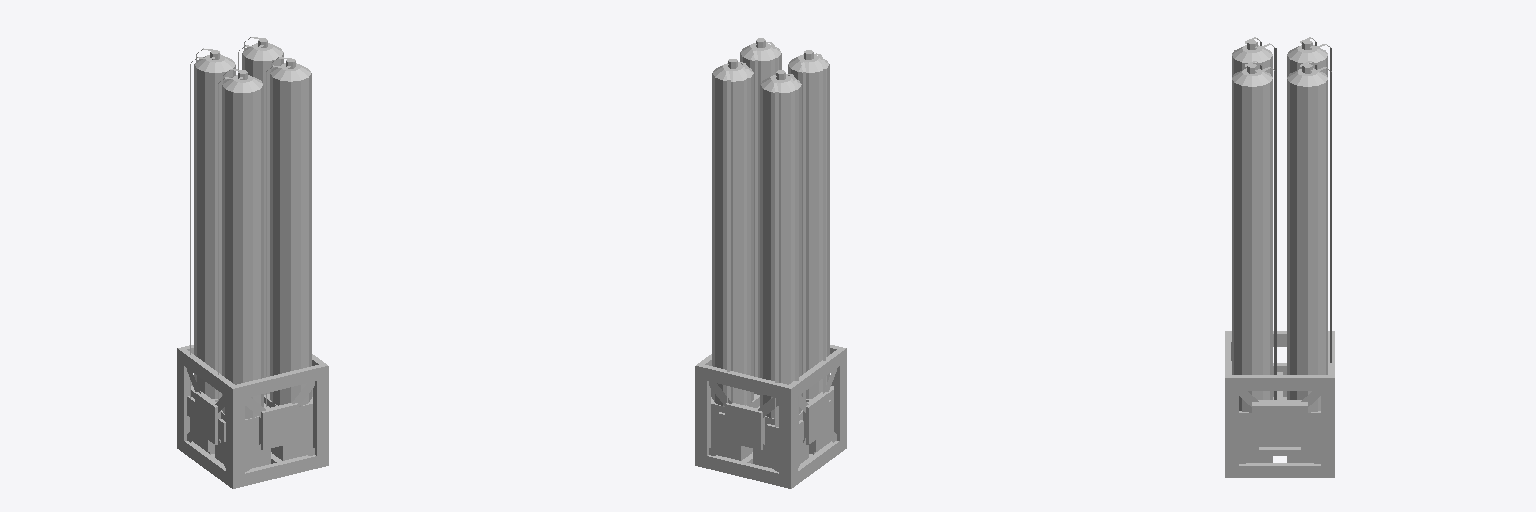
Rendered from gascent.obj.
3 renders of one model, left to right at view 1: azimuth 30°, elevation 25°; view 2: azimuth 150°, elevation 25°; view 3: azimuth 270°, elevation 25°, orthographic.
Visible parts, largest first — view 1: Centrifuge; view 2: Centrifuge; view 3: Centrifuge.
Part boxes in pixels (x1,y1,x2,y2): Centrifuge: (177,37,328,488); Centrifuge: (695,38,846,488); Centrifuge: (1225,37,1334,477).
Bounding box in the file's own units: 1.06 × 4 × 1.